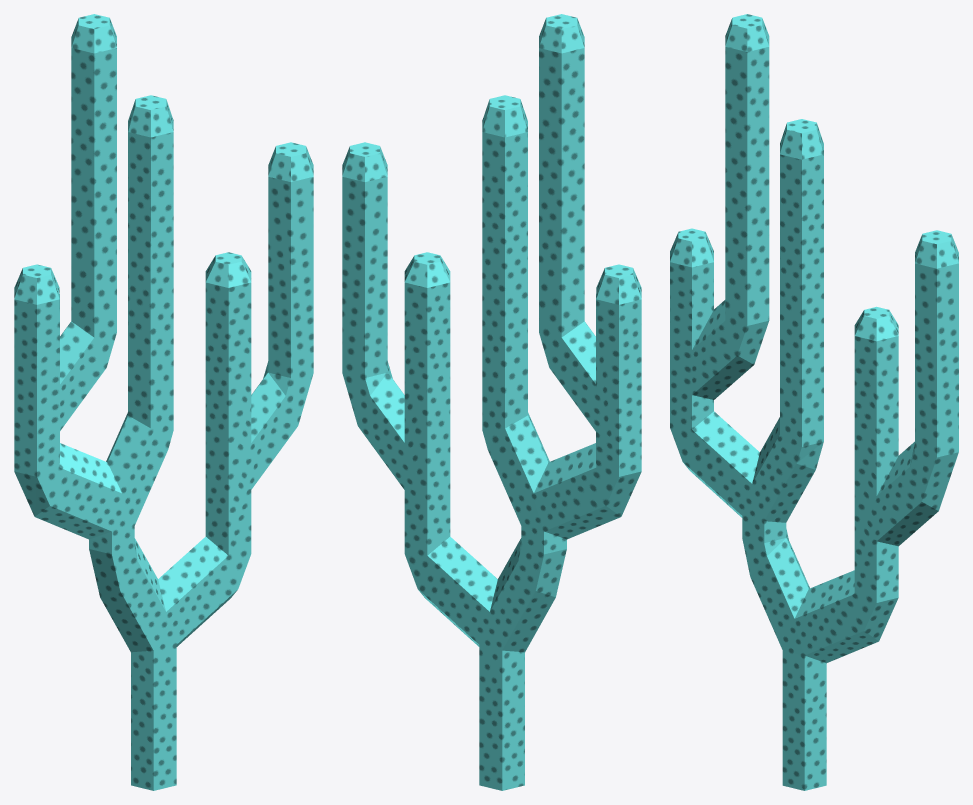
File: coral.fbx
3 views of the same model, side by side, from view 1: azimuth 30°, elevation 25°; view 2: azimuth 150°, elevation 25°; view 3: azimuth 330°, elevation 25° (orthographic). The views are drawn at different scales.
Visible parts, largest first — view 1: Coral; view 2: Coral; view 3: Coral.
Boxes of the visible parts, <box> form: Coral: <box>14,14,313,790</box>; Coral: <box>342,14,641,790</box>; Coral: <box>670,14,958,790</box>.
Bounding box in the file's own units: 225 × 555 × 29.71.
